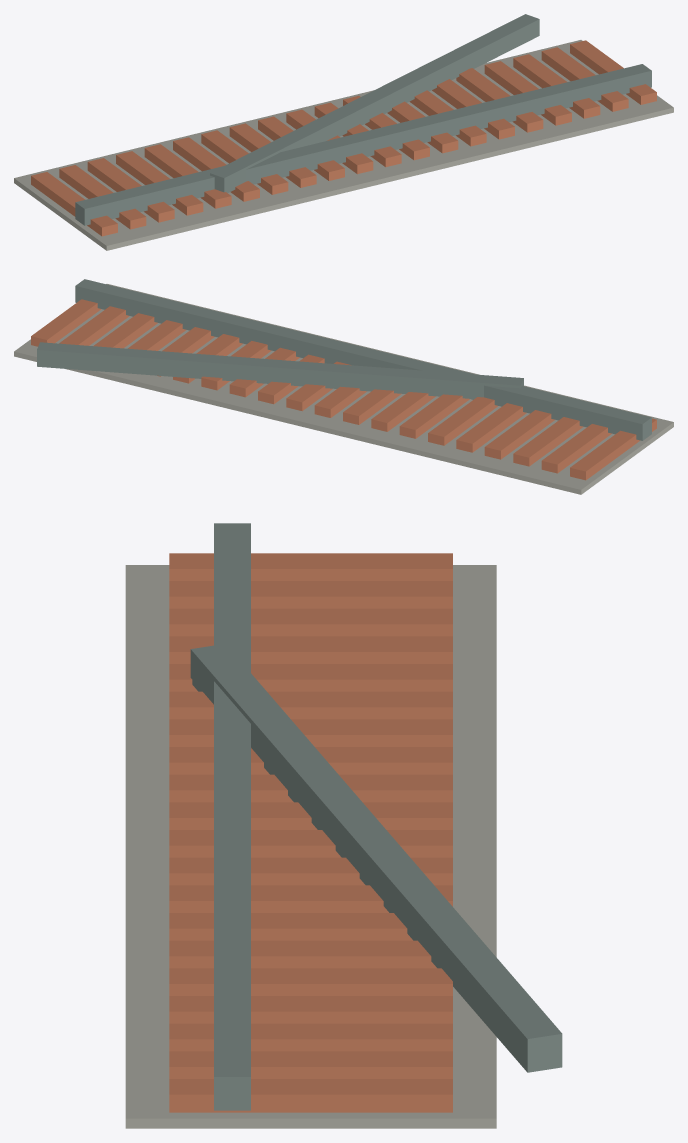
The model's file is SM_ViaRota_v3_Cruzada_LOD1.fbx.
3 views of the same model, one above another, from view 1: azimuth 30°, elevation 25°; view 2: azimuth 150°, elevation 25°; view 3: azimuth 270°, elevation 25° (orthographic). The views are drawn at different scales.
Visible parts, largest first — view 1: SM_aqui_paso_algo_v8_LOD1; view 2: SM_aqui_paso_algo_v8_LOD1; view 3: SM_aqui_paso_algo_v8_LOD1.
Boxes of the visible parts, x1,y1,x2,y2 form: SM_aqui_paso_algo_v8_LOD1: [14, 14, 673, 250]; SM_aqui_paso_algo_v8_LOD1: [14, 279, 673, 494]; SM_aqui_paso_algo_v8_LOD1: [125, 523, 562, 1128].
Bounding box in the file's own units: 12 × 0.57 × 4.
